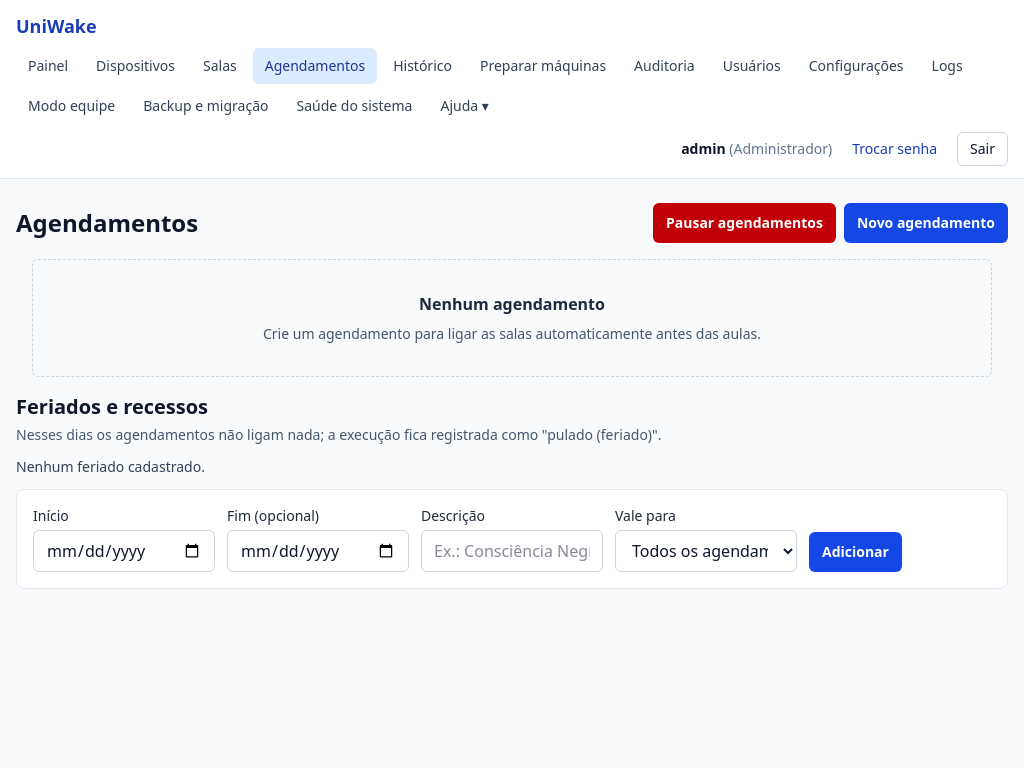
Test: pause (FR-005.6) › AC-005-09 in the UI: pausing without a reason shows the message under the field
Click the button "Pausar agendamentos". click: (744, 223)
box: [653,203,836,243]
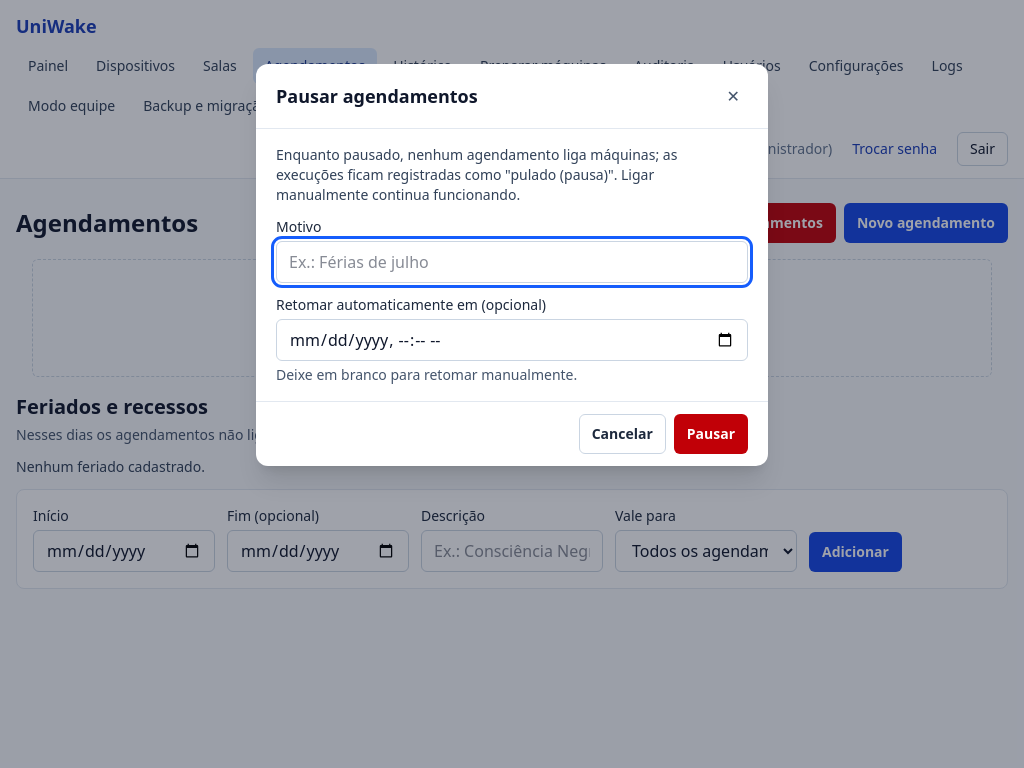
Click the button "Pausar". click: (711, 434)
box: [674,414,748,454]
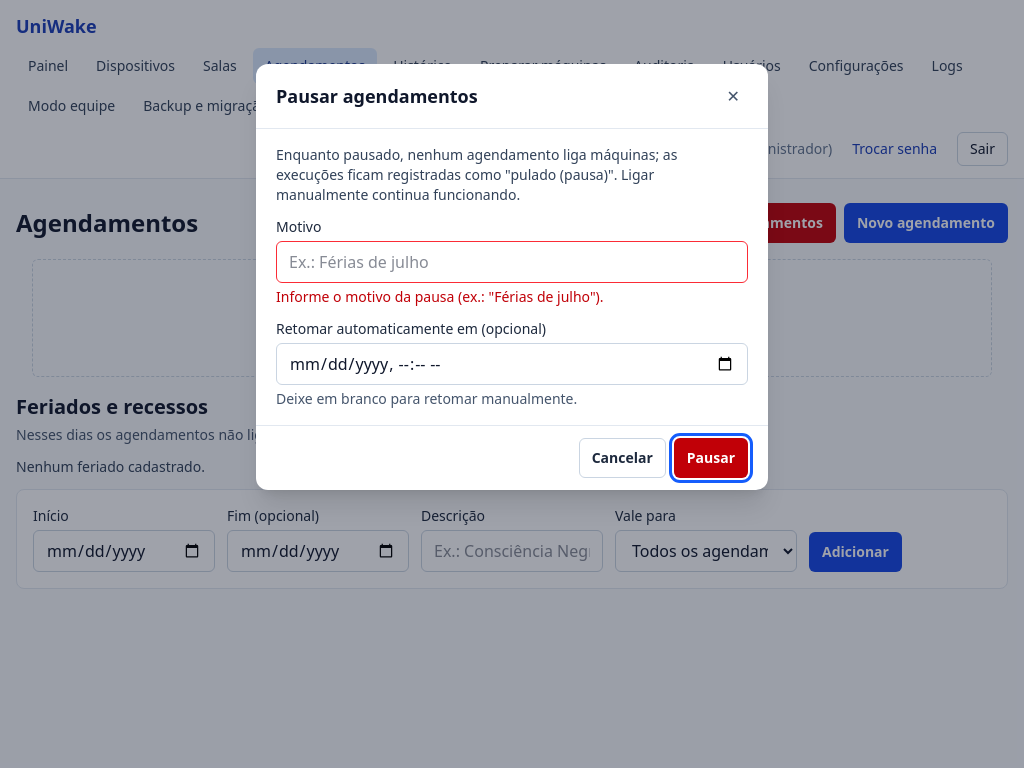
Expected: the text "Informe o motivo da pausa (ex.: \"Férias de julho\")." is shown, [276,287,604,306]
Type "Rede" into the field labelled "Motivo". click: (512, 262)
box: [276,241,748,283]
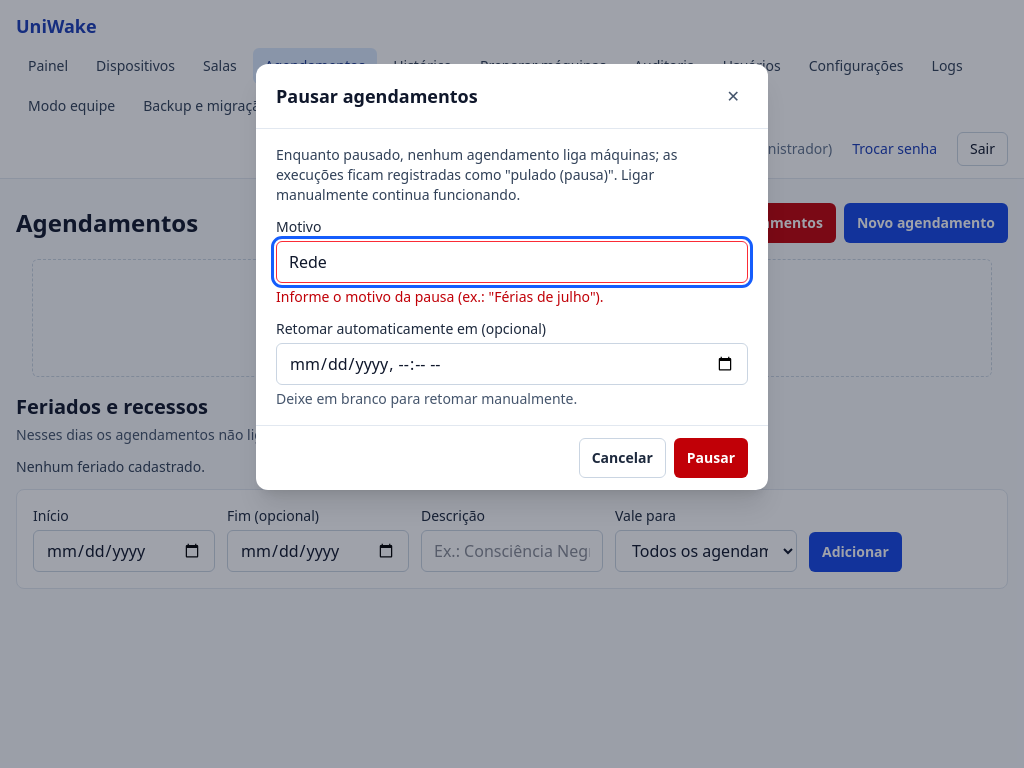
Click the button "Pausar". click: (711, 458)
box: [674,438,748,478]
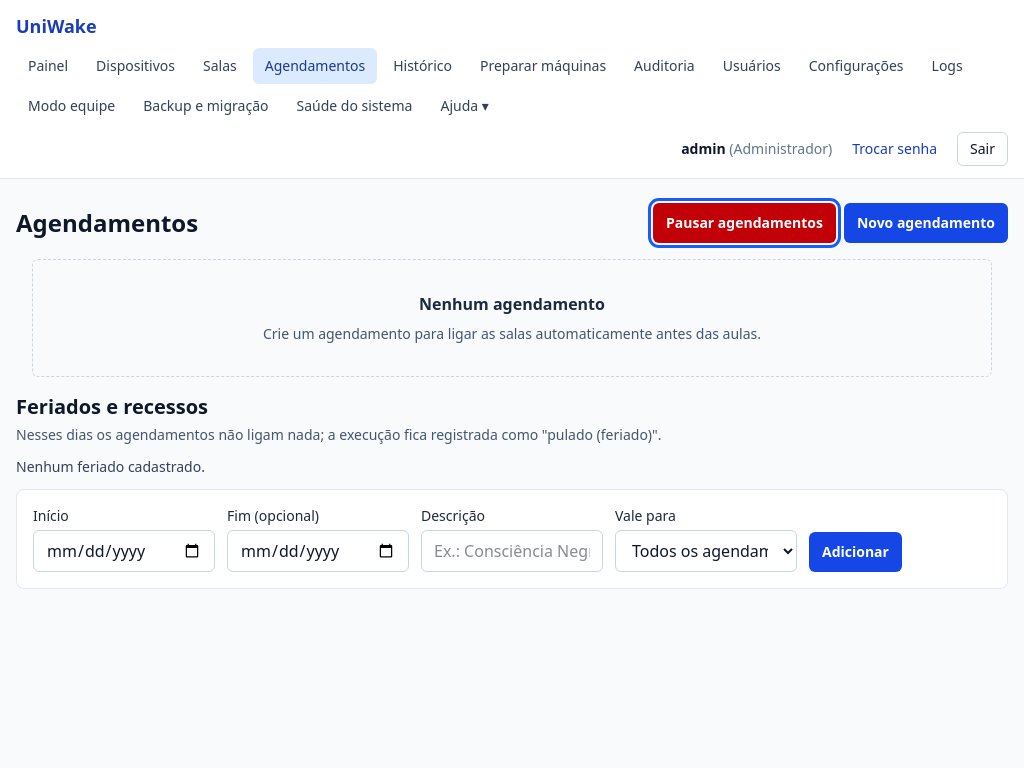
Expected: the dialog is gone
